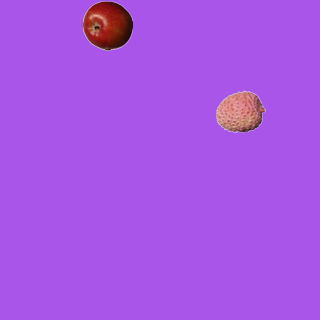Apple Braeburn: (82, 0, 132, 50)
Lychee: (215, 86, 265, 136)
